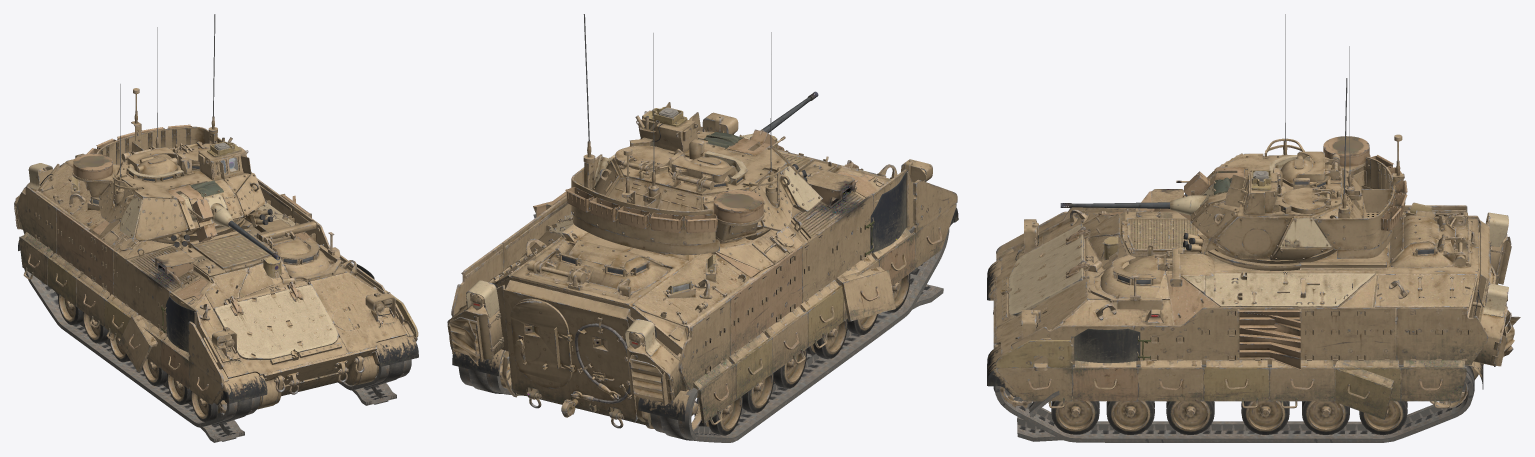
The model's file is VEH_Bradley.glb.
The picture shows the model from 3 angles, left to right: view 1: azimuth 30°, elevation 25°; view 2: azimuth 150°, elevation 25°; view 3: azimuth 270°, elevation 25°; orthographic projection. The views are drawn at different scales.
Visible parts, largest first — view 1: ob_veh_tank_bradley_base_s0, ob_veh_tank_bradley_base_s1, ob_veh_tank_bradley_tracks_s0_p1, ob_veh_tank_bradley_tracks_s0_p0; view 2: ob_veh_tank_bradley_base_s0, ob_veh_tank_bradley_base_s1, ob_veh_tank_bradley_tracks_s0_p1, ob_veh_tank_bradley_tracks_s0_p0; view 3: ob_veh_tank_bradley_base_s0, ob_veh_tank_bradley_base_s1, ob_veh_tank_bradley_tracks_s0_p0.
Part boxes in pixels (left/top/right/bottom): ob_veh_tank_bradley_base_s0: left=14, top=153, right=418, bottom=421; ob_veh_tank_bradley_base_s1: left=15, top=14, right=364, bottom=394; ob_veh_tank_bradley_tracks_s0_p1: left=24, top=255, right=259, bottom=442; ob_veh_tank_bradley_tracks_s0_p0: left=338, top=359, right=411, bottom=405; ob_veh_tank_bradley_base_s0: left=447, top=112, right=958, bottom=435; ob_veh_tank_bradley_base_s1: left=449, top=14, right=876, bottom=428; ob_veh_tank_bradley_tracks_s0_p1: left=650, top=227, right=949, bottom=442; ob_veh_tank_bradley_tracks_s0_p0: left=458, top=350, right=524, bottom=395; ob_veh_tank_bradley_base_s0: left=987, top=189, right=1511, bottom=435; ob_veh_tank_bradley_base_s1: left=993, top=14, right=1520, bottom=370; ob_veh_tank_bradley_tracks_s0_p0: left=993, top=364, right=1474, bottom=442.
Size of the model in its own units: 3.82 by 4.73 by 6.7.
6 materials, 5 textured.
